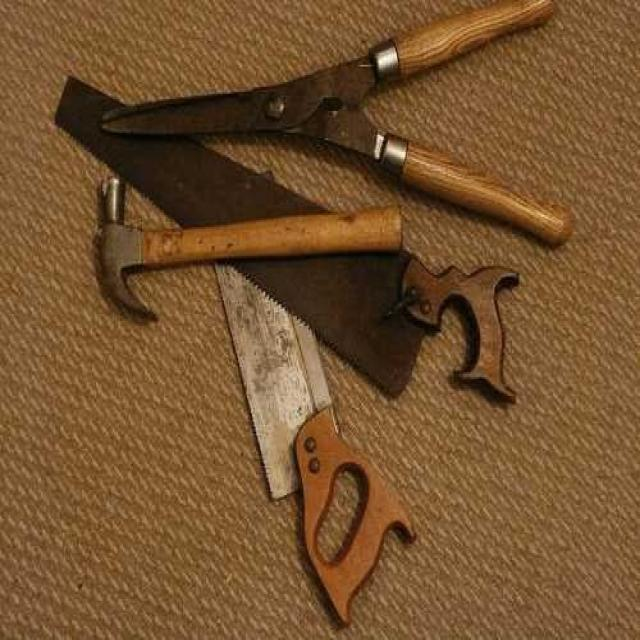hammer: (98, 178, 403, 324)
